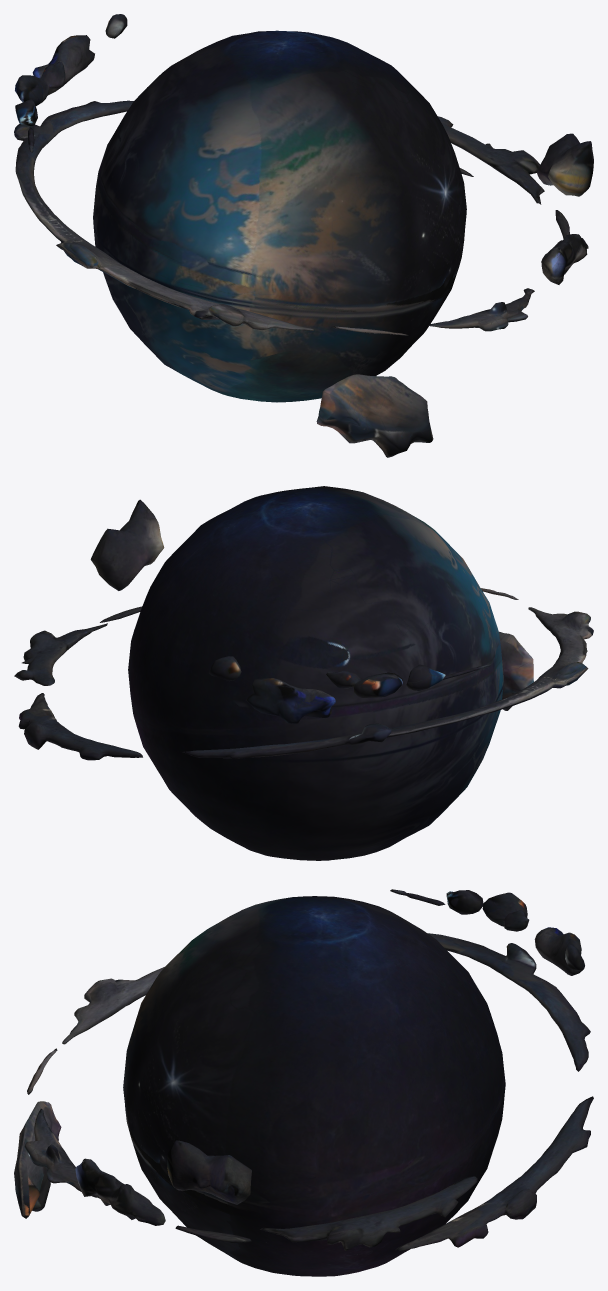
File: Mystic_Planet.glb
3 renders of one model, top to bottom at view 1: azimuth 30°, elevation 25°; view 2: azimuth 150°, elevation 25°; view 3: azimuth 270°, elevation 25°, orthographic. The views are drawn at different scales.
Bounding box in the file's own units: 2.01 × 1.29 × 1.96.
1 material, 1 textured.
